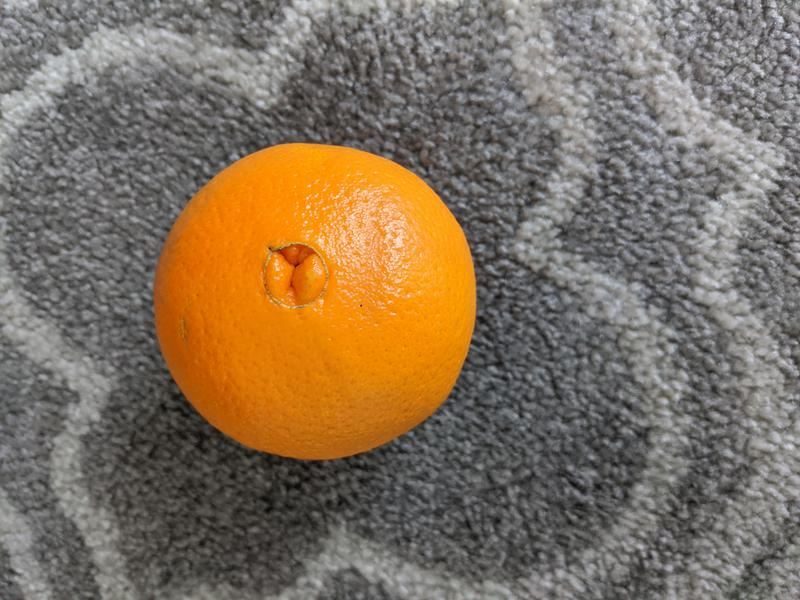orange: (153, 143, 477, 463)
